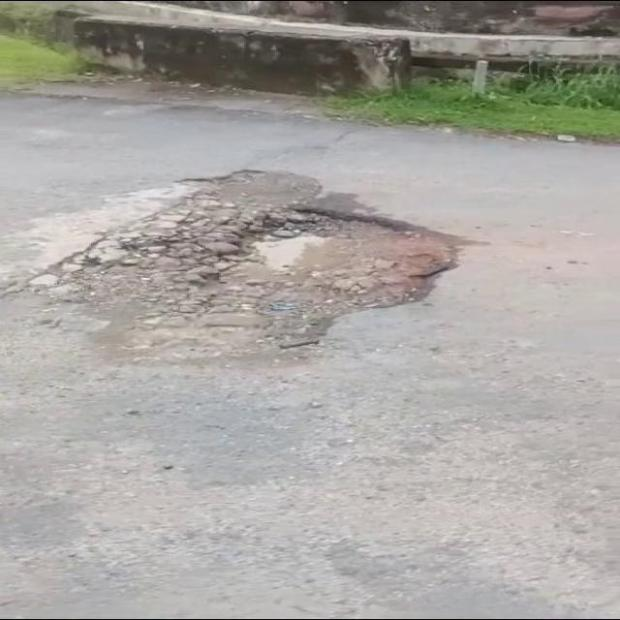lubang: (29, 171, 456, 356)
